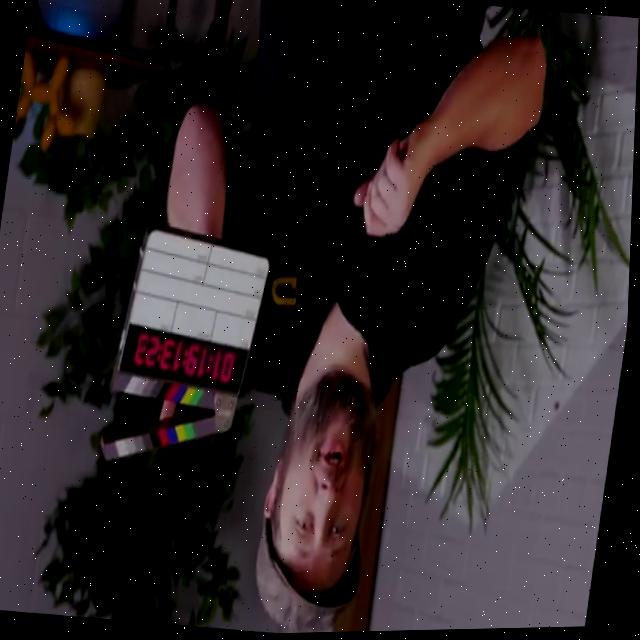Clapperboard: (98, 217, 275, 479)
